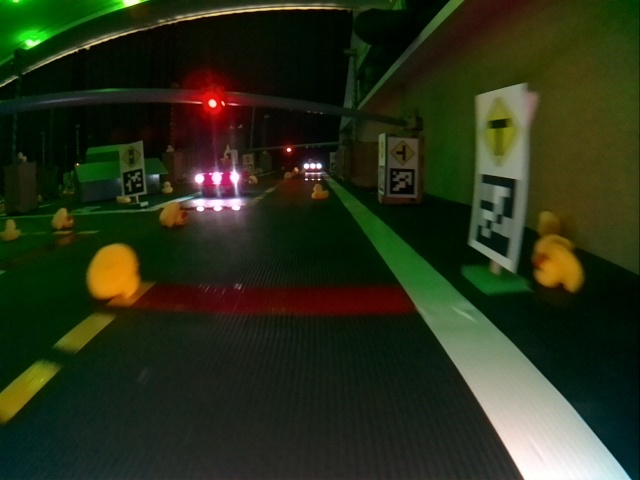Duckie: (88, 244, 139, 295), (533, 246, 584, 294), (161, 204, 188, 228), (1, 218, 21, 243), (53, 209, 71, 230), (310, 186, 327, 200), (164, 183, 173, 192)
Duckiebot: (195, 168, 242, 196)
Intersection sign: (478, 94, 520, 166), (390, 139, 413, 163)
QR code: (473, 180, 515, 256), (388, 174, 415, 195), (121, 170, 144, 194), (377, 166, 385, 193)
Signal sign: (121, 146, 142, 168)
Traffic light: (204, 87, 225, 115)
